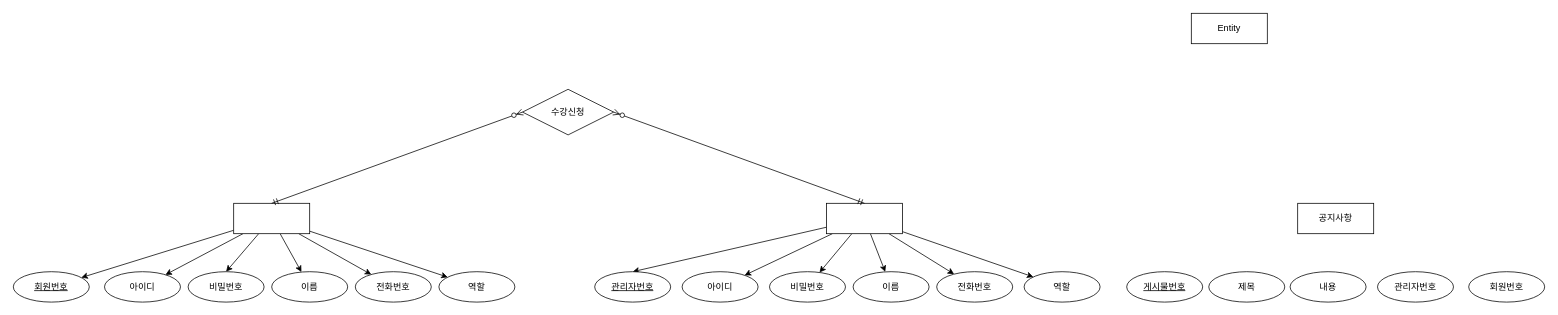
Image size: 1558x315. Some labels were removed from this diagram. The shapes that lost their labels are listed below. From the top down, each one's centre as x and y in pixels, then its label:
the point at 271,218: 유저
the point at 864,218: 관리자
